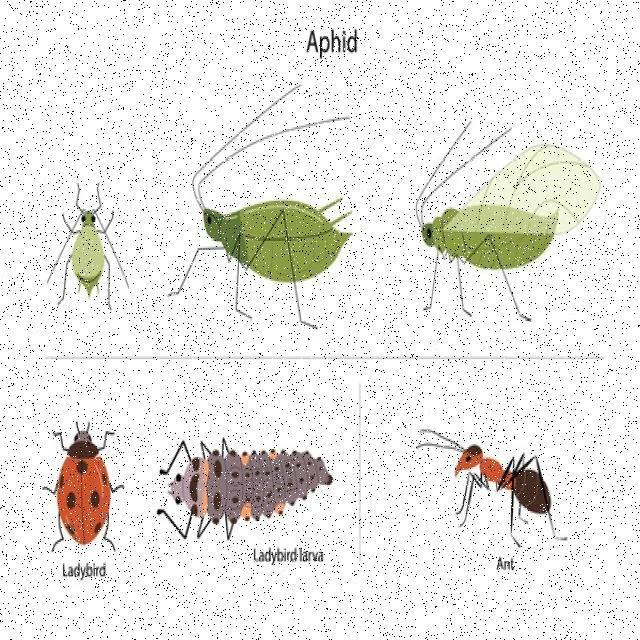Aphids: (154, 69, 369, 344), (391, 92, 617, 337), (26, 129, 143, 333)
